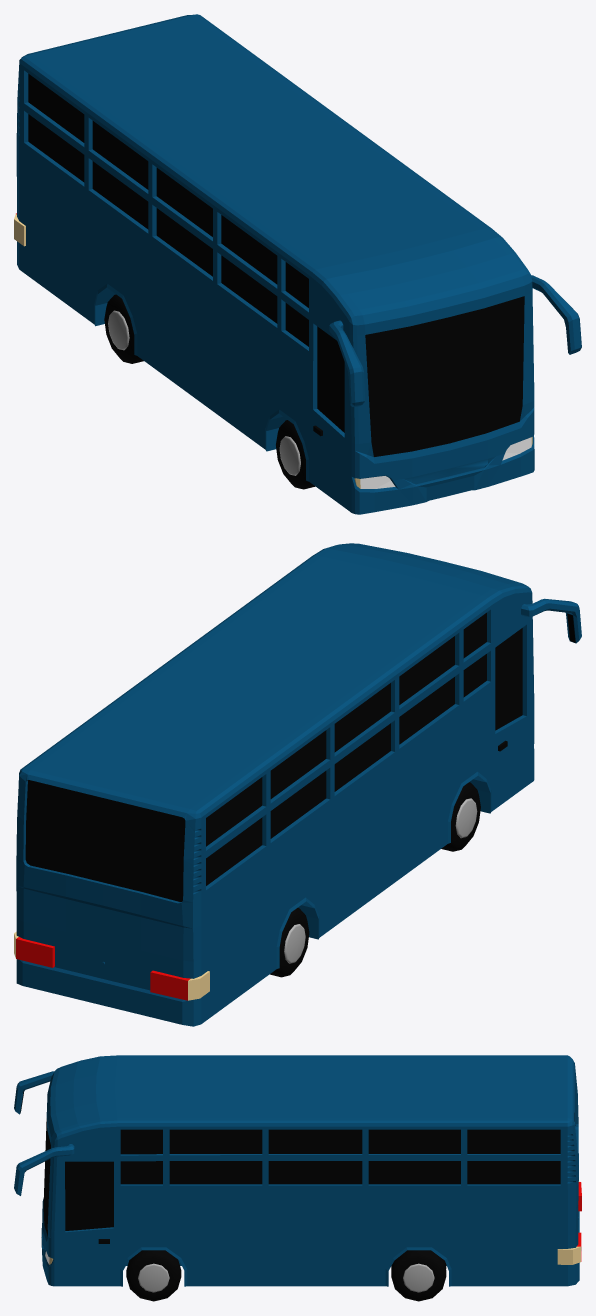
Rendered from BusLowPoly-b.fbx.
3 views of the same model, one above another, from view 1: azimuth 30°, elevation 25°; view 2: azimuth 150°, elevation 25°; view 3: azimuth 270°, elevation 25° (orthographic). The views are drawn at different scales.
Parts seen in each view (by area): view 1: BUS, BR, FR, High-Beam; view 2: BUS, Break-Light, BR, FR; view 3: BUS, BL, FL, Light-Left.
Boxes of the visible parts, x1=… form: BUS: x1=16, y1=14, x2=581, y2=514; BR: x1=104, y1=294, x2=143, y2=363; FR: x1=276, y1=420, x2=315, y2=489; High-Beam: x1=360, y1=437, x2=531, y2=488; BUS: x1=16, y1=543, x2=581, y2=1026; Break-Light: x1=16, y1=937, x2=190, y2=1000; BR: x1=270, y1=908, x2=309, y2=977; FR: x1=441, y1=782, x2=480, y2=851; BUS: x1=14, y1=1055, x2=581, y2=1286; BL: x1=391, y1=1250, x2=446, y2=1301; FL: x1=126, y1=1250, x2=181, y2=1301; Light-Left: x1=49, y1=1246, x2=580, y2=1264.
Bounding box in the file's own units: 3.1 × 3.02 × 8.55.
